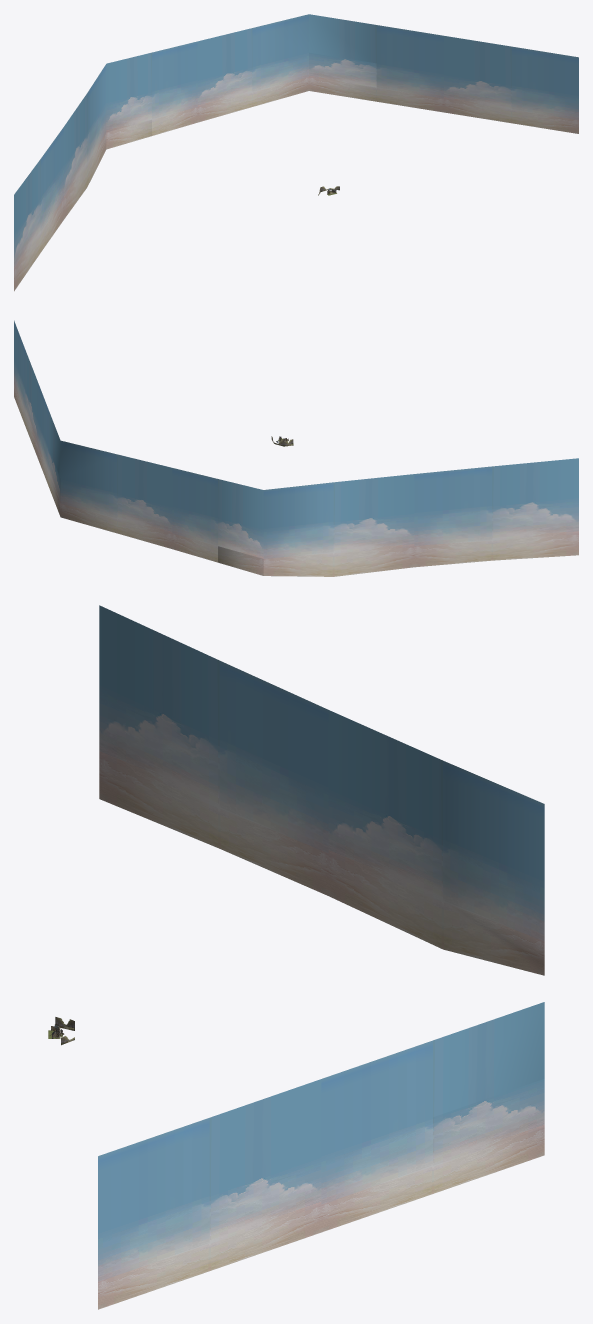
The model's file is stageProb.fbx.
3 views of the same model, one above another, from view 1: azimuth 30°, elevation 25°; view 2: azimuth 150°, elevation 25°; view 3: azimuth 270°, elevation 25° (orthographic). The views are drawn at different scales.
Parts seen in each view (by area): view 1: lobby03_Sky; view 2: lobby03_Sky; view 3: lobby03_Sky.
Boxes of the visible parts, x1,y1,x2,y2 form: lobby03_Sky: (14, 14, 578, 291); lobby03_Sky: (14, 320, 578, 576); lobby03_Sky: (98, 605, 544, 1309).
Bounding box in the file's own units: 2172 × 356 × 826.
4 materials, 4 textured.
